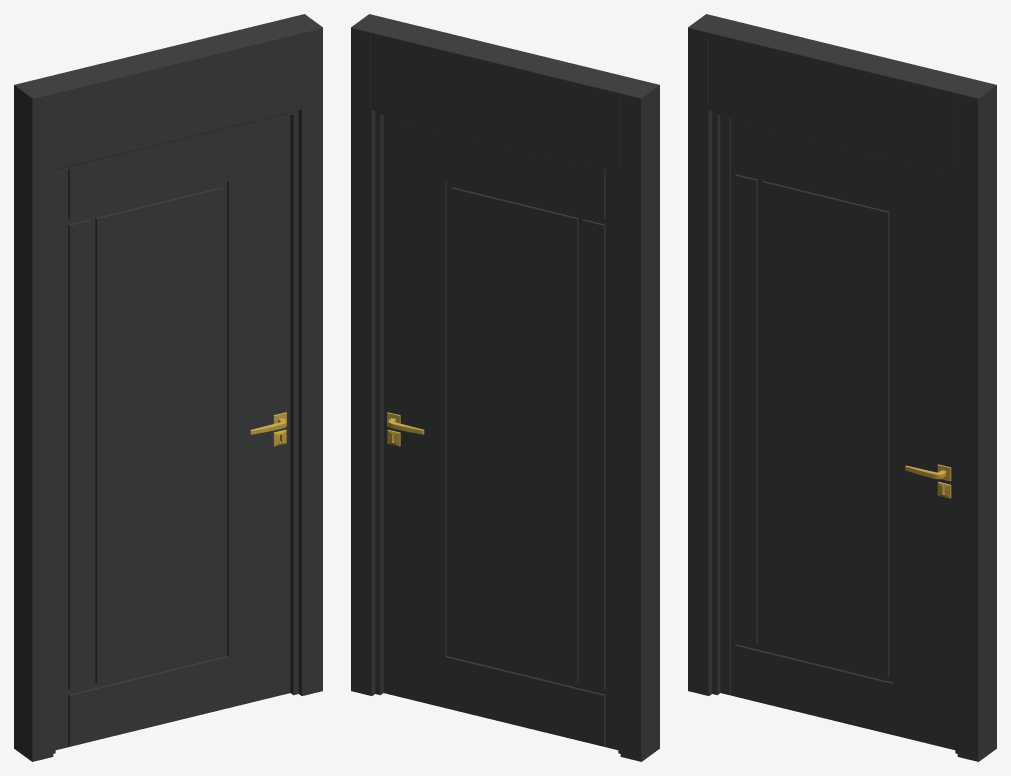
File: door.glb
3 views of the same model, side by side, from view 1: azimuth 30°, elevation 25°; view 2: azimuth 150°, elevation 25°; view 3: azimuth 330°, elevation 25° (orthographic).
Parts seen in each view (by area): view 1: Door_Panel_02, Door_Frame_02; view 2: Door_Panel_02, Door_Frame_02; view 3: Door_Panel_02, Door_Frame_02.
Part boxes in pixels (x1,y1,x2,y2): Door_Panel_02: (55, 115, 290, 749); Door_Frame_02: (14, 14, 322, 761); Door_Panel_02: (383, 115, 618, 749); Door_Frame_02: (351, 14, 659, 761); Door_Panel_02: (720, 115, 955, 749); Door_Frame_02: (688, 14, 996, 761).
Size of the model in its own units: 1.1 by 2.4 by 0.1439.
Materials: 2 (1 with a texture image).
